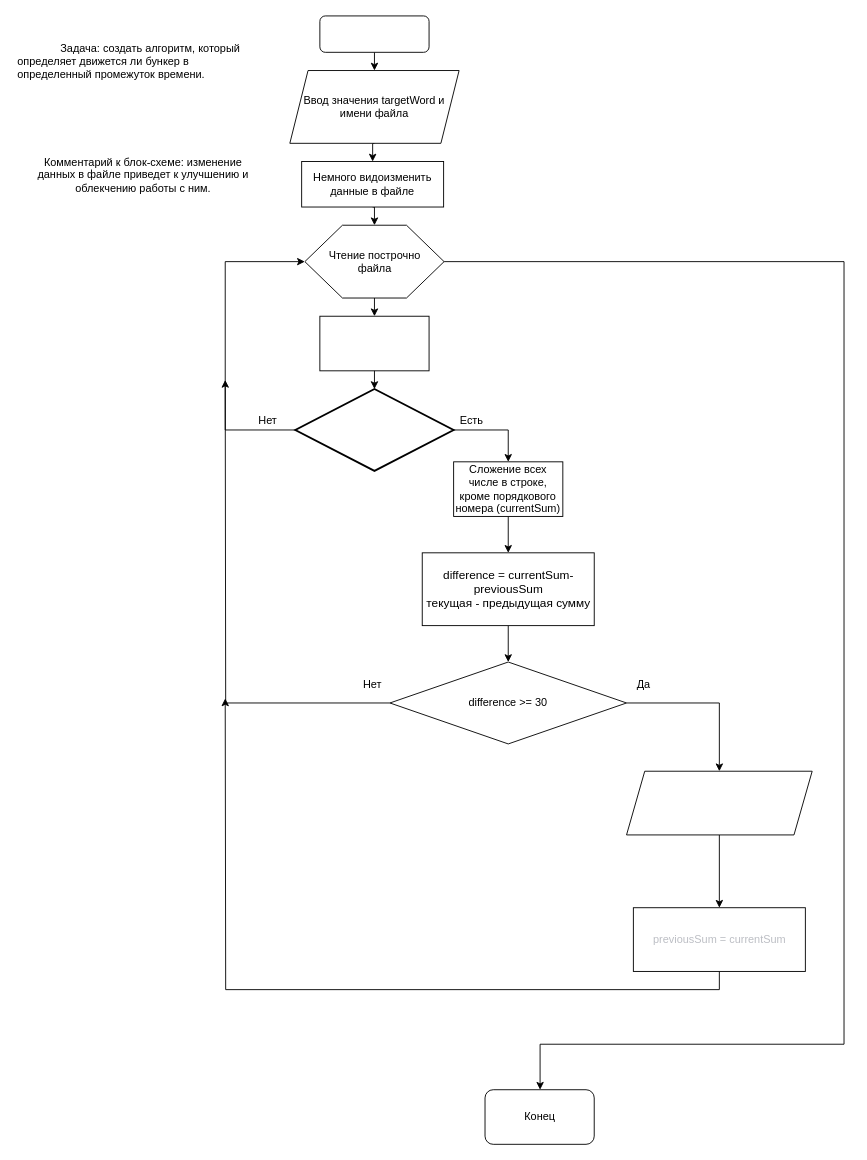
The diagram is 867 pixels wide and 1160 high, and some of its shapes have lost their labels. The centre of each missing label's shape, as x and y in pixels:
"previousSum = 0L" goes at [374,343].
"targetWord in line" goes at [374,429].
"Вывод difference, line и currentSum" goes at [719,802].
"Начало" goes at [374,33].
